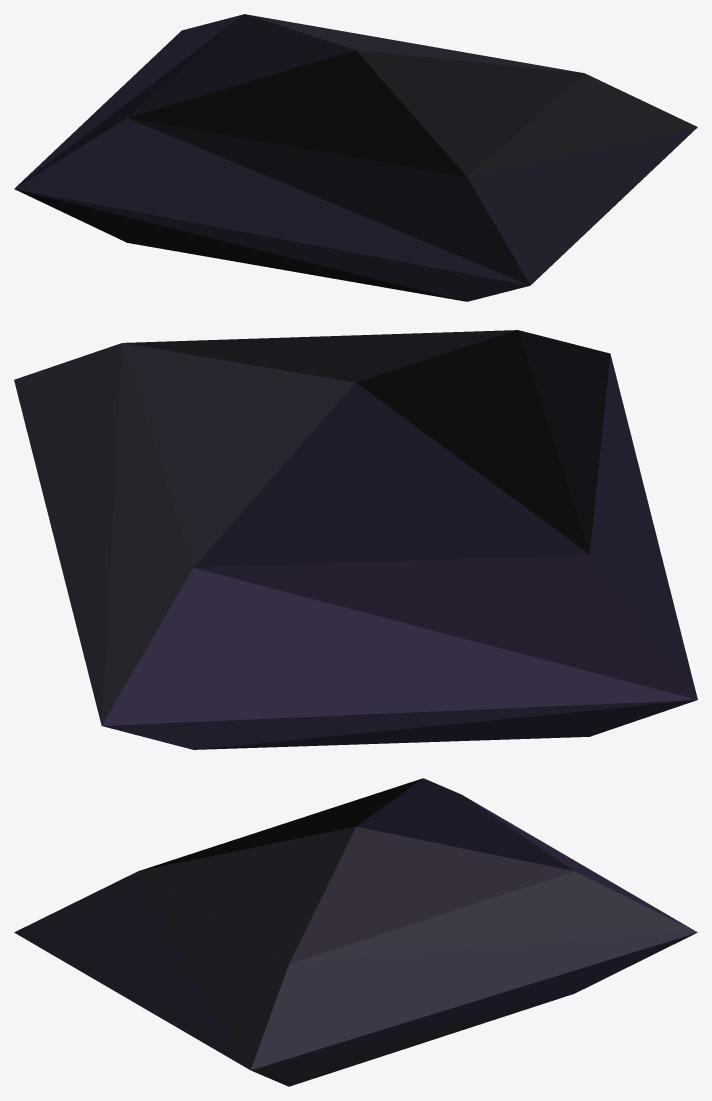
Rendered from prop_treasure_gem_onyx_1.fbx.
3 renders of one model, top to bottom at view 1: azimuth 30°, elevation 25°; view 2: azimuth 150°, elevation 25°; view 3: azimuth 270°, elevation 25°, orthographic. The views are drawn at different scales.
Visible parts, largest first — view 1: prop_treasure_gem_onyx_1; view 2: prop_treasure_gem_onyx_1; view 3: prop_treasure_gem_onyx_1.
Part boxes in pixels (x1,y1,x2,y2): prop_treasure_gem_onyx_1: [14, 14, 697, 301]; prop_treasure_gem_onyx_1: [14, 330, 697, 749]; prop_treasure_gem_onyx_1: [14, 778, 697, 1086].
Bounding box in the file's own units: 0.4772 × 0.1708 × 0.5001.
